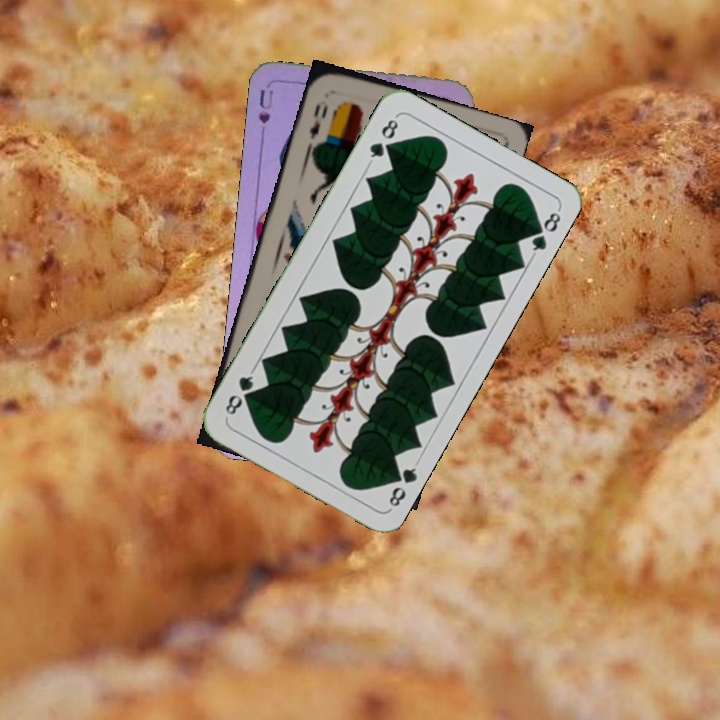EO: (305, 96, 331, 142)
G8: (384, 459, 422, 512), (365, 112, 401, 166)
SU: (254, 85, 276, 144)
